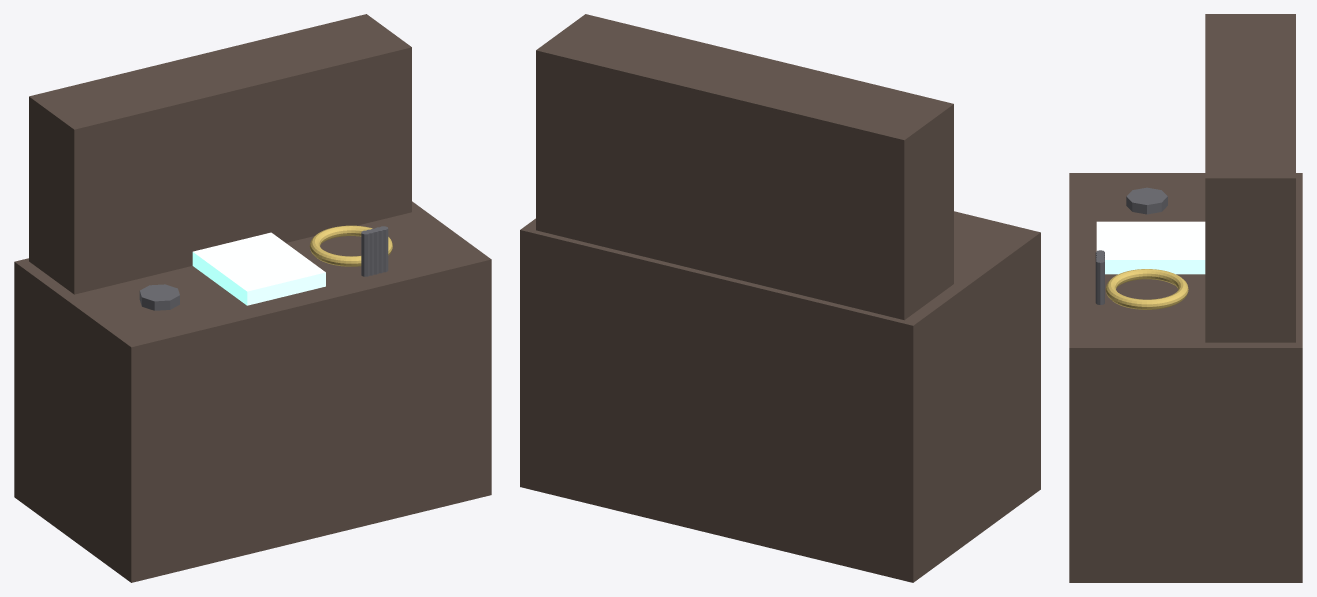
File: warden_desk.glb
The picture shows the model from 3 angles, left to right: view 1: azimuth 30°, elevation 25°; view 2: azimuth 150°, elevation 25°; view 3: azimuth 270°, elevation 25°; orthographic projection. The views are drawn at different scales.
Parts seen in each view (by area): view 1: Cube, Cube.001, Cube.002, WardenKeyring, Cylinder; view 2: Cube, Cube.001; view 3: Cube, Cube.001, Cube.002, WardenKeyring, Cylinder, Cylinder.005.
Part boxes in pixels (box(x1,y1,x2,y2)): Cube: box(14, 201, 491, 582); Cube.001: box(29, 14, 411, 294); Cube.002: box(192, 232, 325, 305); WardenKeyring: box(309, 225, 392, 266); Cylinder: box(139, 284, 179, 310); Cube: box(520, 211, 1040, 582); Cube.001: box(536, 14, 953, 320); Cube: box(1069, 173, 1302, 582); Cube.001: box(1205, 14, 1295, 342); Cube.002: box(1096, 221, 1205, 274); WardenKeyring: box(1105, 269, 1188, 309); Cylinder: box(1126, 187, 1167, 214); Cylinder.005: box(1095, 259, 1104, 304).
Size of the model in its own units: 1.6 by 1.7 by 0.9.
